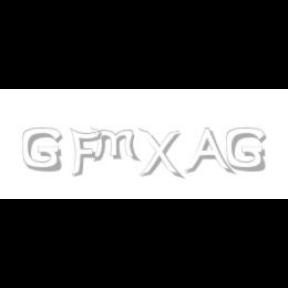A: (184, 128, 232, 176)
F: (69, 128, 101, 178)
G: (22, 128, 62, 172), (226, 128, 266, 172)
X: (138, 128, 182, 180)
m: (89, 128, 141, 162)
